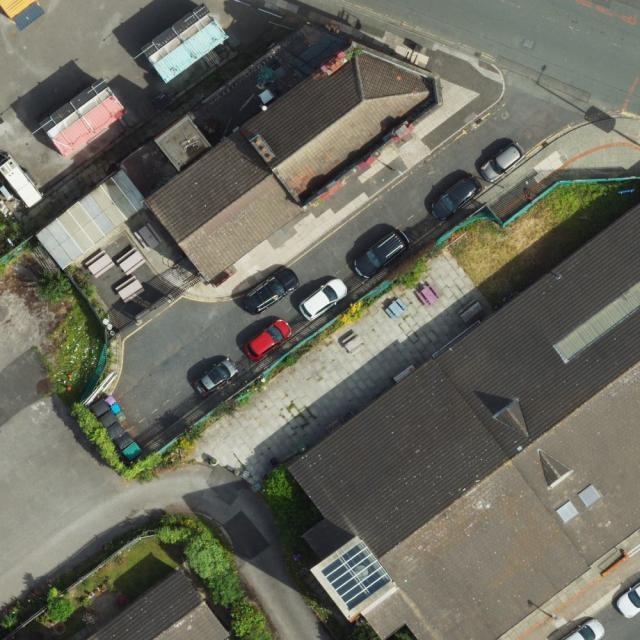roof: (286, 202, 640, 640), (147, 42, 443, 282), (87, 571, 229, 640)
skylight: (553, 281, 640, 361), (321, 542, 393, 610)
solar: (555, 499, 581, 524), (577, 484, 602, 509)
